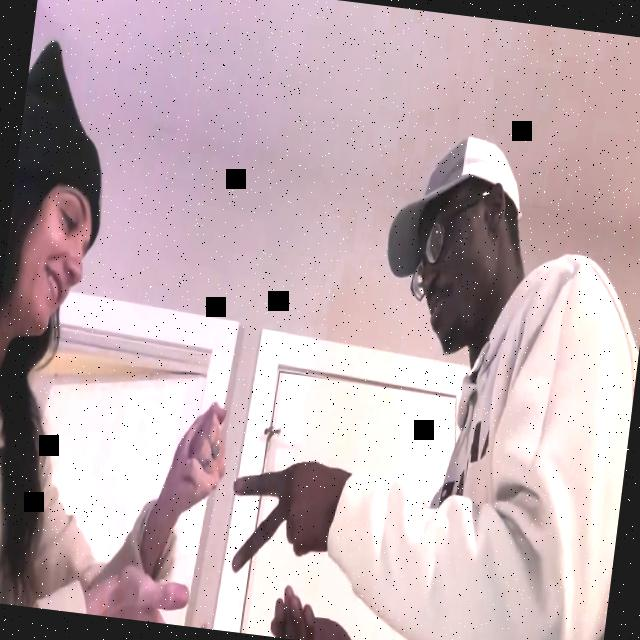Rock: (166, 397, 232, 513)
Scissors: (220, 448, 352, 586)
